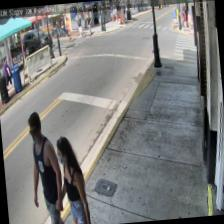person: (26, 109, 67, 224), (54, 133, 91, 224)
